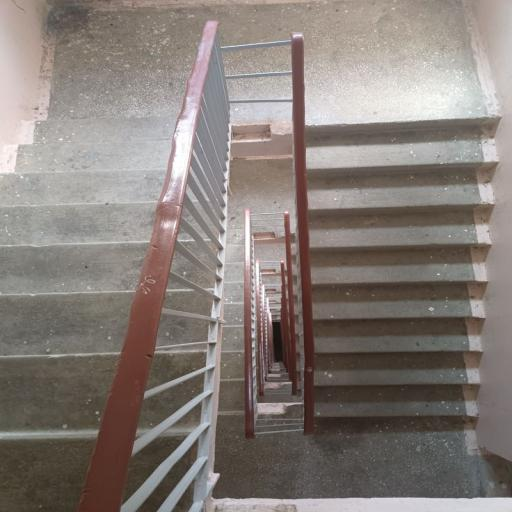sofa: (0, 1, 512, 509)
stairs: (0, 109, 227, 511)
